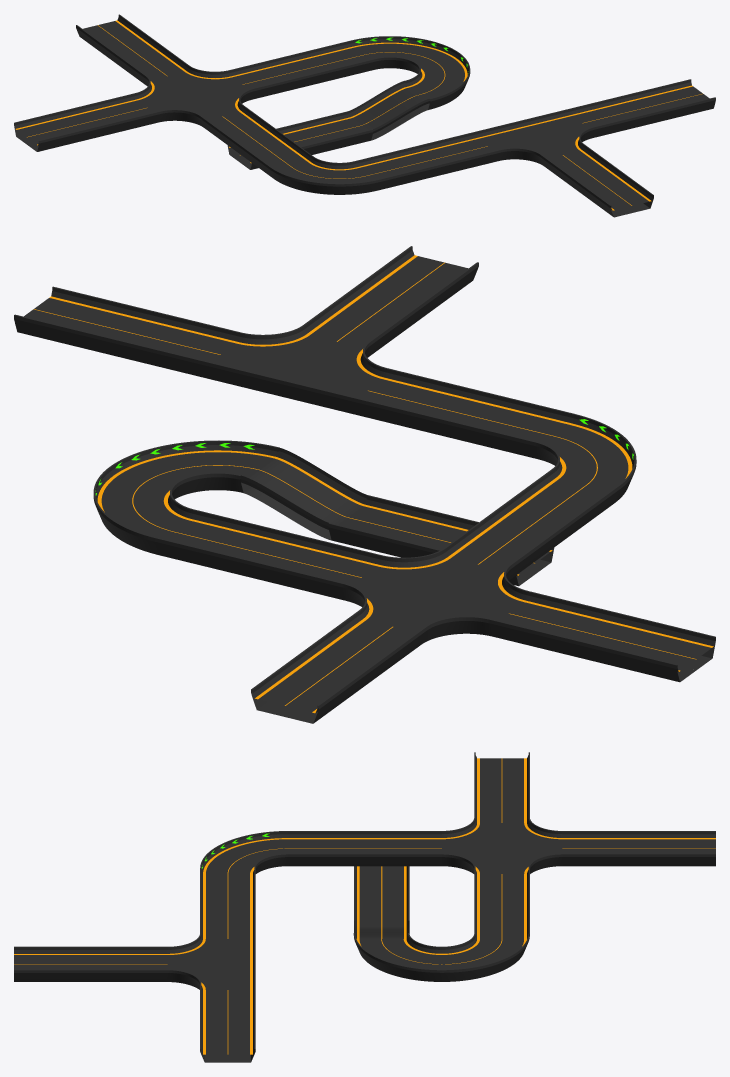
3 views of the same model, one above another, from view 1: azimuth 30°, elevation 25°; view 2: azimuth 150°, elevation 25°; view 3: azimuth 270°, elevation 25° (orthographic). The views are drawn at different scales.
Parts seen in each view (by area): view 1: Traffic Circle 4Ways, Road.008, Road.004, Road.010, Road.003, Traffic Circle 3Ways, Road.009, Road.007, Road.001, Road.002, Road.006, Road.011 (+2 smaller); view 2: Traffic Circle 4Ways, Road.008, Road.004, Road.010, Road.003, Traffic Circle 3Ways, Road.007, Road.001, Road.009, Road.005, Road.011, Road.012 (+2 smaller); view 3: Traffic Circle 4Ways, Road.001, Road.007, Road.009, Traffic Circle 3Ways, Road.010, Road.008, Road.003, Road.004, Road.011, Road.002, Road.006 (+2 smaller).
Part boxes in pixels (left/top/right/bottom): Traffic Circle 4Ways: left=135, top=65, right=254, bottom=127; Road.008: left=14, top=93, right=159, bottom=151; Road.004: left=230, top=40, right=375, bottom=99; Road.010: left=570, top=79, right=715, bottom=137; Road.003: left=354, top=132, right=500, bottom=190; Traffic Circle 3Ways: left=475, top=108, right=594, bottom=165; Road.009: left=540, top=144, right=653, bottom=217; Road.007: left=76, top=14, right=188, bottom=86; Road.001: left=200, top=105, right=313, bottom=178; Road.002: left=270, top=156, right=379, bottom=194; Road.006: left=351, top=36, right=458, bottom=73; Road.011: left=227, top=111, right=373, bottom=169; Traffic Circle 4Ways: left=342, top=548, right=527, bottom=644; Road.008: left=489, top=591, right=715, bottom=682; Road.004: left=155, top=509, right=381, bottom=600; Road.010: left=14, top=286, right=239, bottom=377; Road.003: left=348, top=368, right=574, bottom=459; Traffic Circle 3Ways: left=201, top=325, right=386, bottom=413; Road.007: left=251, top=610, right=426, bottom=723; Road.001: left=444, top=469, right=619, bottom=580; Road.009: left=303, top=246, right=478, bottom=357; Road.005: left=110, top=440, right=279, bottom=499; Road.011: left=328, top=495, right=554, bottom=586; Road.012: left=241, top=447, right=366, bottom=540; Traffic Circle 4Ways: left=442, top=817, right=562, bottom=873; Road.001: left=288, top=831, right=441, bottom=866; Road.007: left=562, top=831, right=715, bottom=866; Road.009: left=14, top=946, right=167, bottom=981; Traffic Circle 3Ways: left=167, top=933, right=255, bottom=989; Road.010: left=200, top=984, right=255, bottom=1062; Road.008: left=474, top=752, right=529, bottom=822; Road.003: left=200, top=868, right=255, bottom=938; Road.004: left=474, top=868, right=529, bottom=938; Road.011: left=354, top=866, right=409, bottom=929; Road.002: left=200, top=831, right=288, bottom=873; Road.006: left=441, top=933, right=529, bottom=981.
Size of the model in its own units: 48439 by 2447 by 48450.
